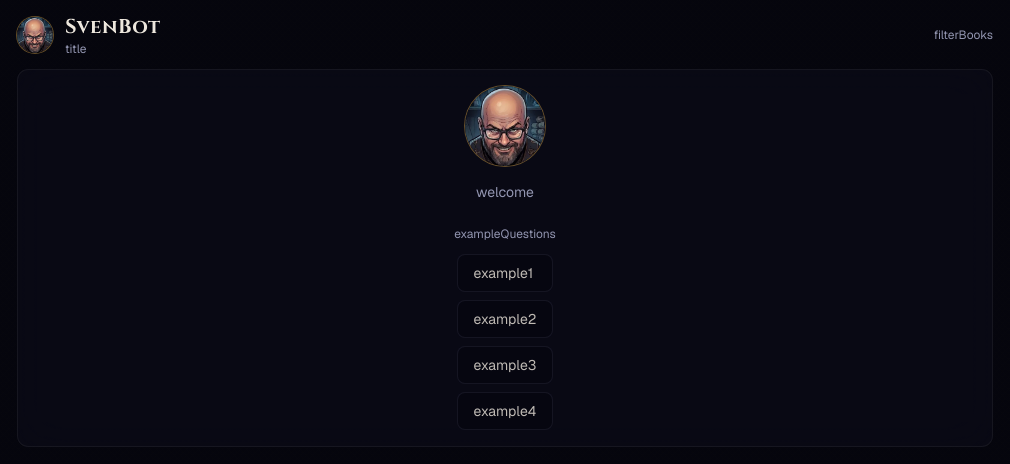
Test: RulebookChat › shows SvenBot rubbing his hands while the answer is loading
Step 1. Click the button with test id "example-question" → (505,273), box [457,254,553,292]
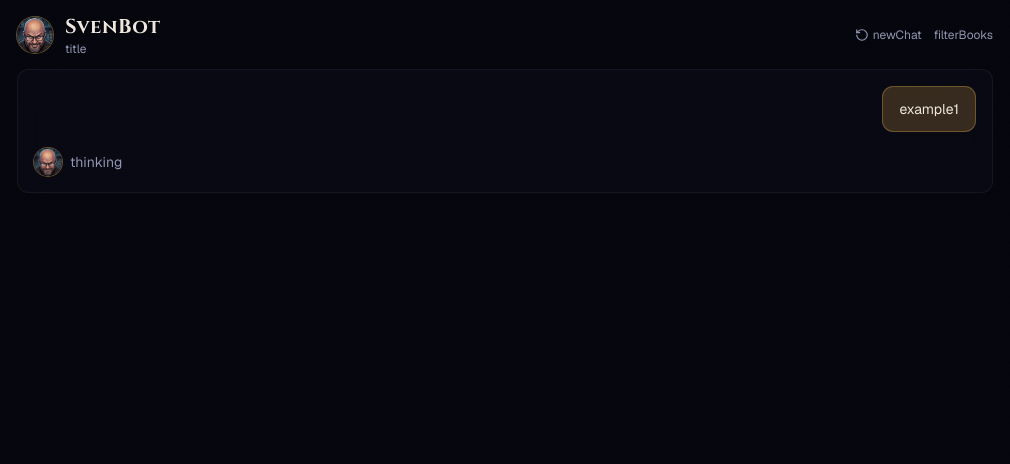
Expected: the picture with test id "svenbot-avatar" next to "thinking" is shown, [34,148,62,176]
Result: the text "thinking" is shown at [70,152,122,172]
